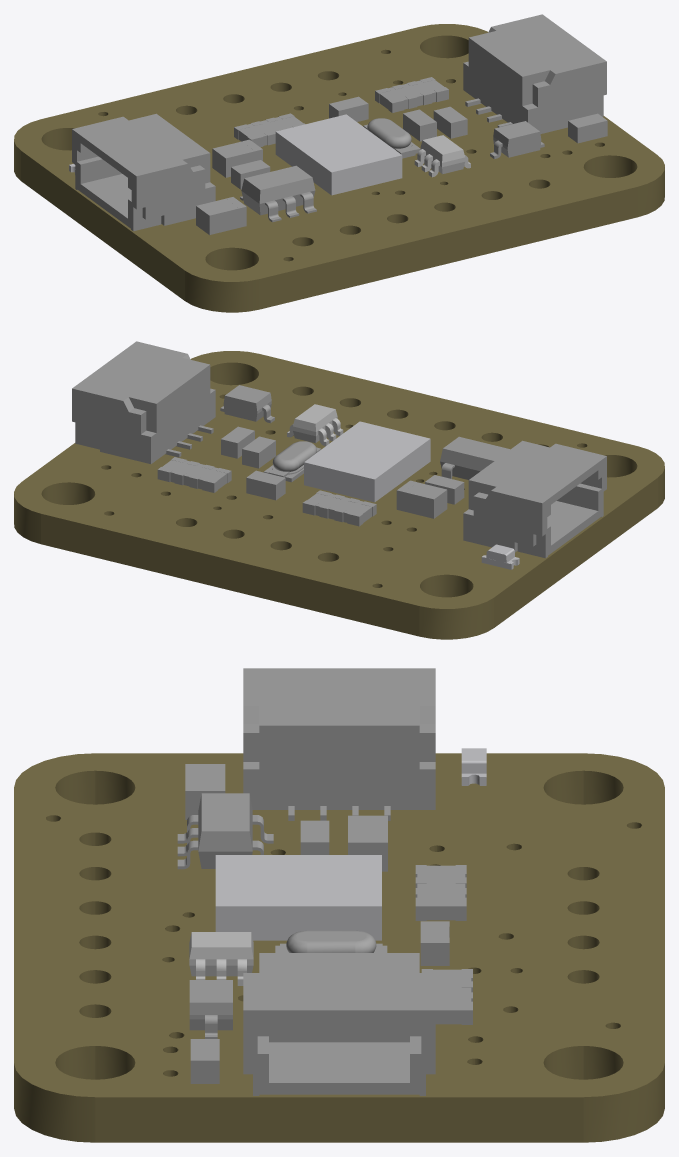
File: ada-4646.glb
The picture shows the model from 3 angles, top to bottom: view 1: azimuth 30°, elevation 25°; view 2: azimuth 150°, elevation 25°; view 3: azimuth 270°, elevation 25°; orthographic projection. The views are drawn at different scales.
Parts seen in each view (by area): view 1: 0.16666666666666666_0.16666666666666666_0.08333333333333333_, 0.3333333333333333_0.3333333333333333_0.3333333333333333_0, 0.5833333333333334_0.5833333333333334_0.5833333333333334_0.8, 0.5_0.5_0.5_0.85; view 2: 0.16666666666666666_0.16666666666666666_0.08333333333333333_, 0.3333333333333333_0.3333333333333333_0.3333333333333333_0, 0.5833333333333334_0.5833333333333334_0.5833333333333334_0.8, 0.5_0.5_0.5_0.85; view 3: 0.16666666666666666_0.16666666666666666_0.08333333333333333_, 0.3333333333333333_0.3333333333333333_0.3333333333333333_0, 0.5833333333333334_0.5833333333333334_0.5833333333333334_0.8, 0.5_0.5_0.5_0.85.
Part boxes in pixels (x1=…): 0.16666666666666666_0.16666666666666666_0.08333333333333333_: x1=14, y1=24, x2=664, y2=312; 0.3333333333333333_0.3333333333333333_0.3333333333333333_0: x1=72, y1=14, x2=607, y2=234; 0.5833333333333334_0.5833333333333334_0.5833333333333334_0.8: x1=69, y1=114, x2=402, y2=195; 0.5_0.5_0.5_0.85: x1=414, y1=135, x2=470, y2=177; 0.16666666666666666_0.16666666666666666_0.08333333333333333_: x1=14, y1=351, x2=664, y2=639; 0.3333333333333333_0.3333333333333333_0.3333333333333333_0: x1=72, y1=341, x2=606, y2=558; 0.5833333333333334_0.5833333333333334_0.5833333333333334_0.8: x1=304, y1=421, x2=519, y2=569; 0.5_0.5_0.5_0.85: x1=287, y1=404, x2=343, y2=446; 0.16666666666666666_0.16666666666666666_0.08333333333333333_: x1=14, y1=753, x2=664, y2=1142; 0.3333333333333333_0.3333333333333333_0.3333333333333333_0: x1=177, y1=668, x2=472, y2=1095; 0.5833333333333334_0.5833333333333334_0.5833333333333334_0.8: x1=215, y1=748, x2=486, y2=940; 0.5_0.5_0.5_0.85: x1=189, y1=932, x2=253, y2=985.
Size of the model in its own units: 2.54 by 0.4529 by 2.03.
